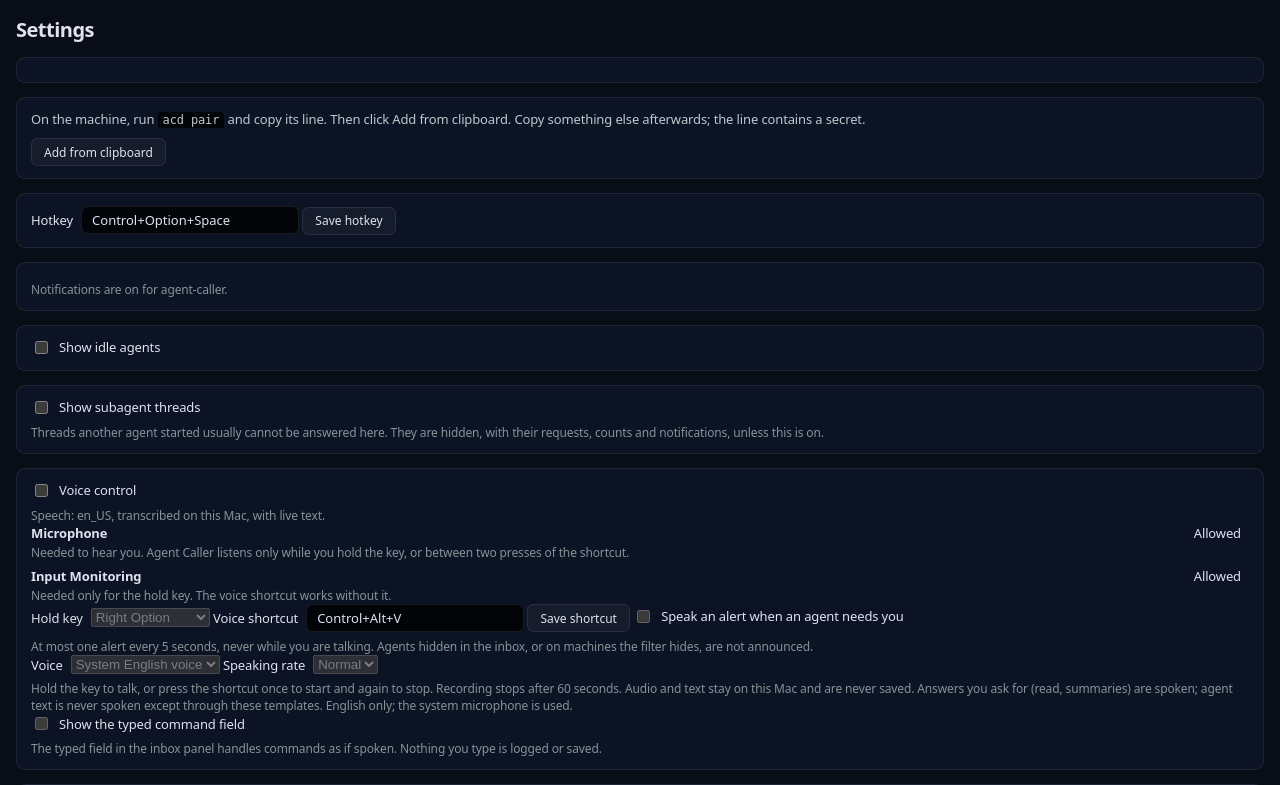
Test case: a successful import names the new machine and clears a previous error
Click the button "Add from clipboard".
click(98, 152)  # box [31, 138, 166, 166]
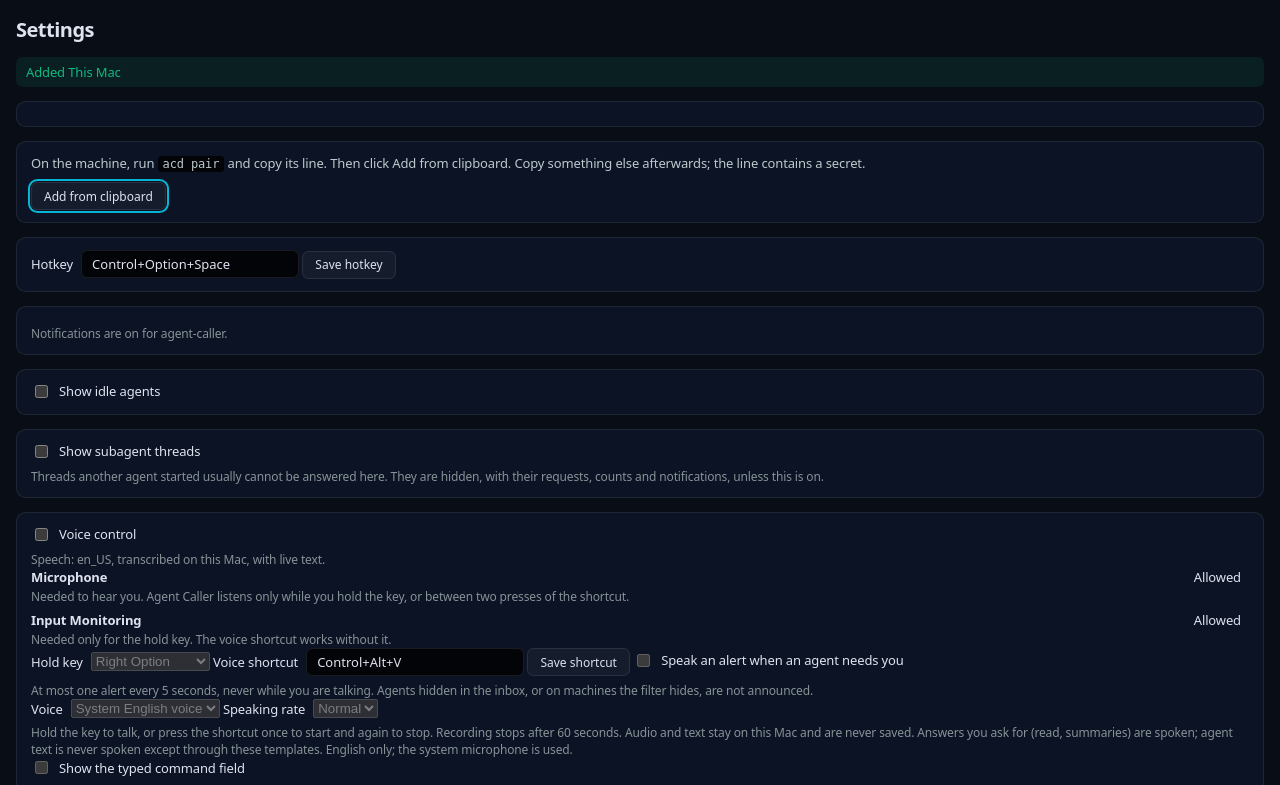
Expected: the text "Added This Mac" is shown, [16, 57, 1264, 87]
